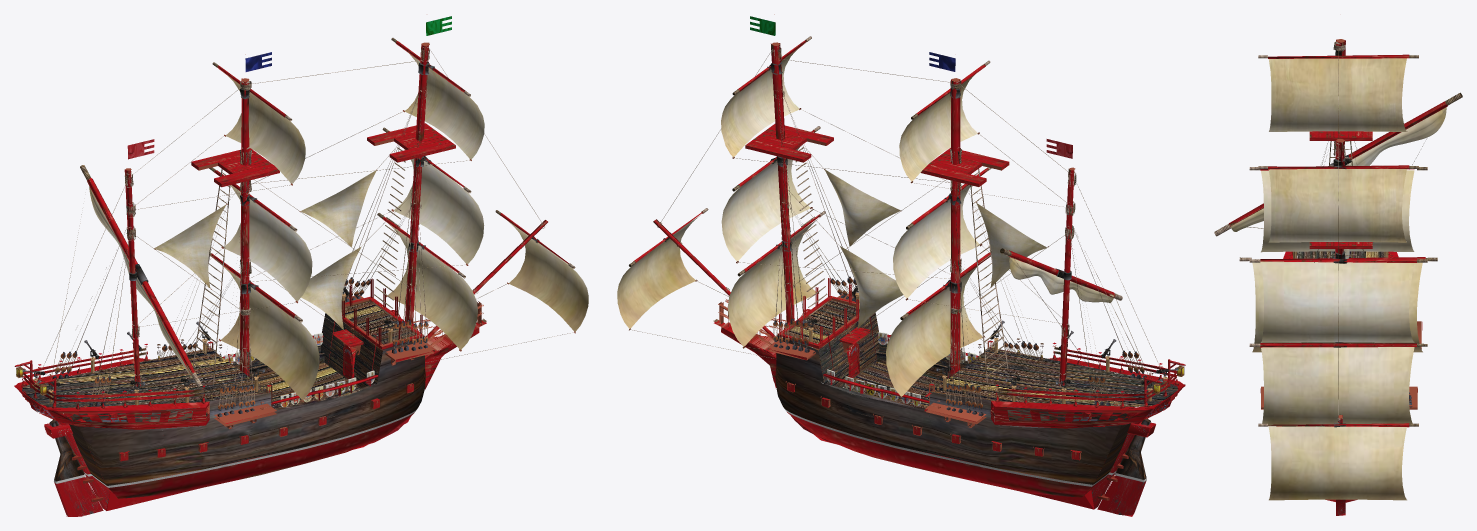
The model's file is barco-galeon.glb.
3 views of the same model, side by side, from view 1: azimuth 30°, elevation 25°; view 2: azimuth 150°, elevation 25°; view 3: azimuth 270°, elevation 25° (orthographic). The views are drawn at different scales.
Visible parts, largest first — view 1: Object_141, Object_146, Object_143, Object_140, Object_66, Object_28, Object_139, Object_84, Object_100, Object_142, Object_137, Object_11 (+3 smaller); view 2: Object_141, Object_146, Object_143, Object_140, Object_66, Object_28, Object_139, Object_84, Object_11, Object_100, Object_142, Object_137 (+3 smaller); view 3: Object_141, Object_146, Object_11, Object_66, Object_84, Object_140, Object_147.
Part boxes in pixels (x1,y1,x2,y2): Object_141: (154,52,588,400); Object_146: (21,41,575,498); Object_143: (24,331,425,485); Object_140: (22,300,424,429); Object_66: (36,38,575,412); Object_28: (14,169,377,429); Object_139: (24,335,411,516); Object_84: (80,178,415,461); Object_100: (55,279,428,409); Object_142: (54,410,415,487); Object_137: (52,277,427,419); Object_11: (89,186,192,377); Object_141: (617,44,1047,396); Object_146: (629,14,1179,497); Object_143: (775,329,1174,484); Object_140: (777,300,1177,421); Object_66: (629,36,1165,410); Object_28: (824,169,1185,428); Object_139: (791,334,1175,516); Object_84: (785,250,1116,460); Object_11: (1008,257,1113,302); Object_100: (773,278,1144,408); Object_142: (785,382,1146,486); Object_137: (773,276,1146,417); Object_141: (1252,58,1422,500); Object_146: (1260,39,1425,502); Object_11: (1230,107,1446,231); Object_66: (1239,41,1437,499); Object_84: (1229,101,1447,426); Object_140: (1297,251,1384,258); Object_147: (1333,49,1346,427).
Size of the model in its own units: 9.89 by 7.45 by 3.85.
Materials: 42 (41 with a texture image).
